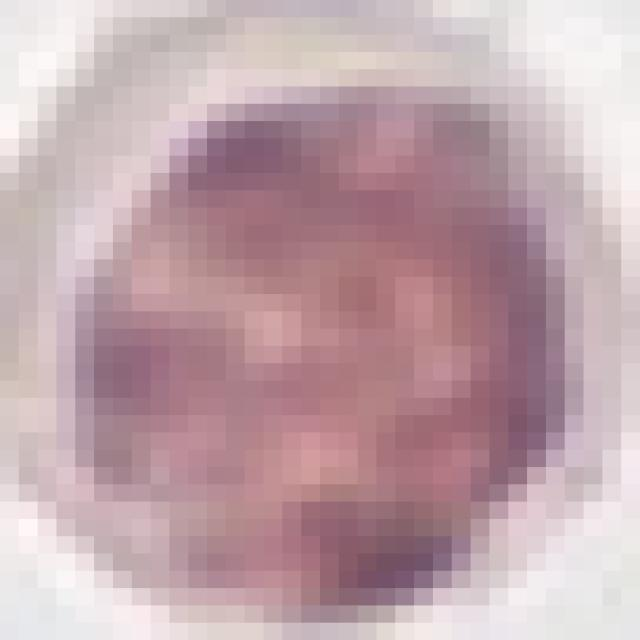cytoplasm: (0, 0, 621, 623)
nucleus: (3, 43, 623, 640)
